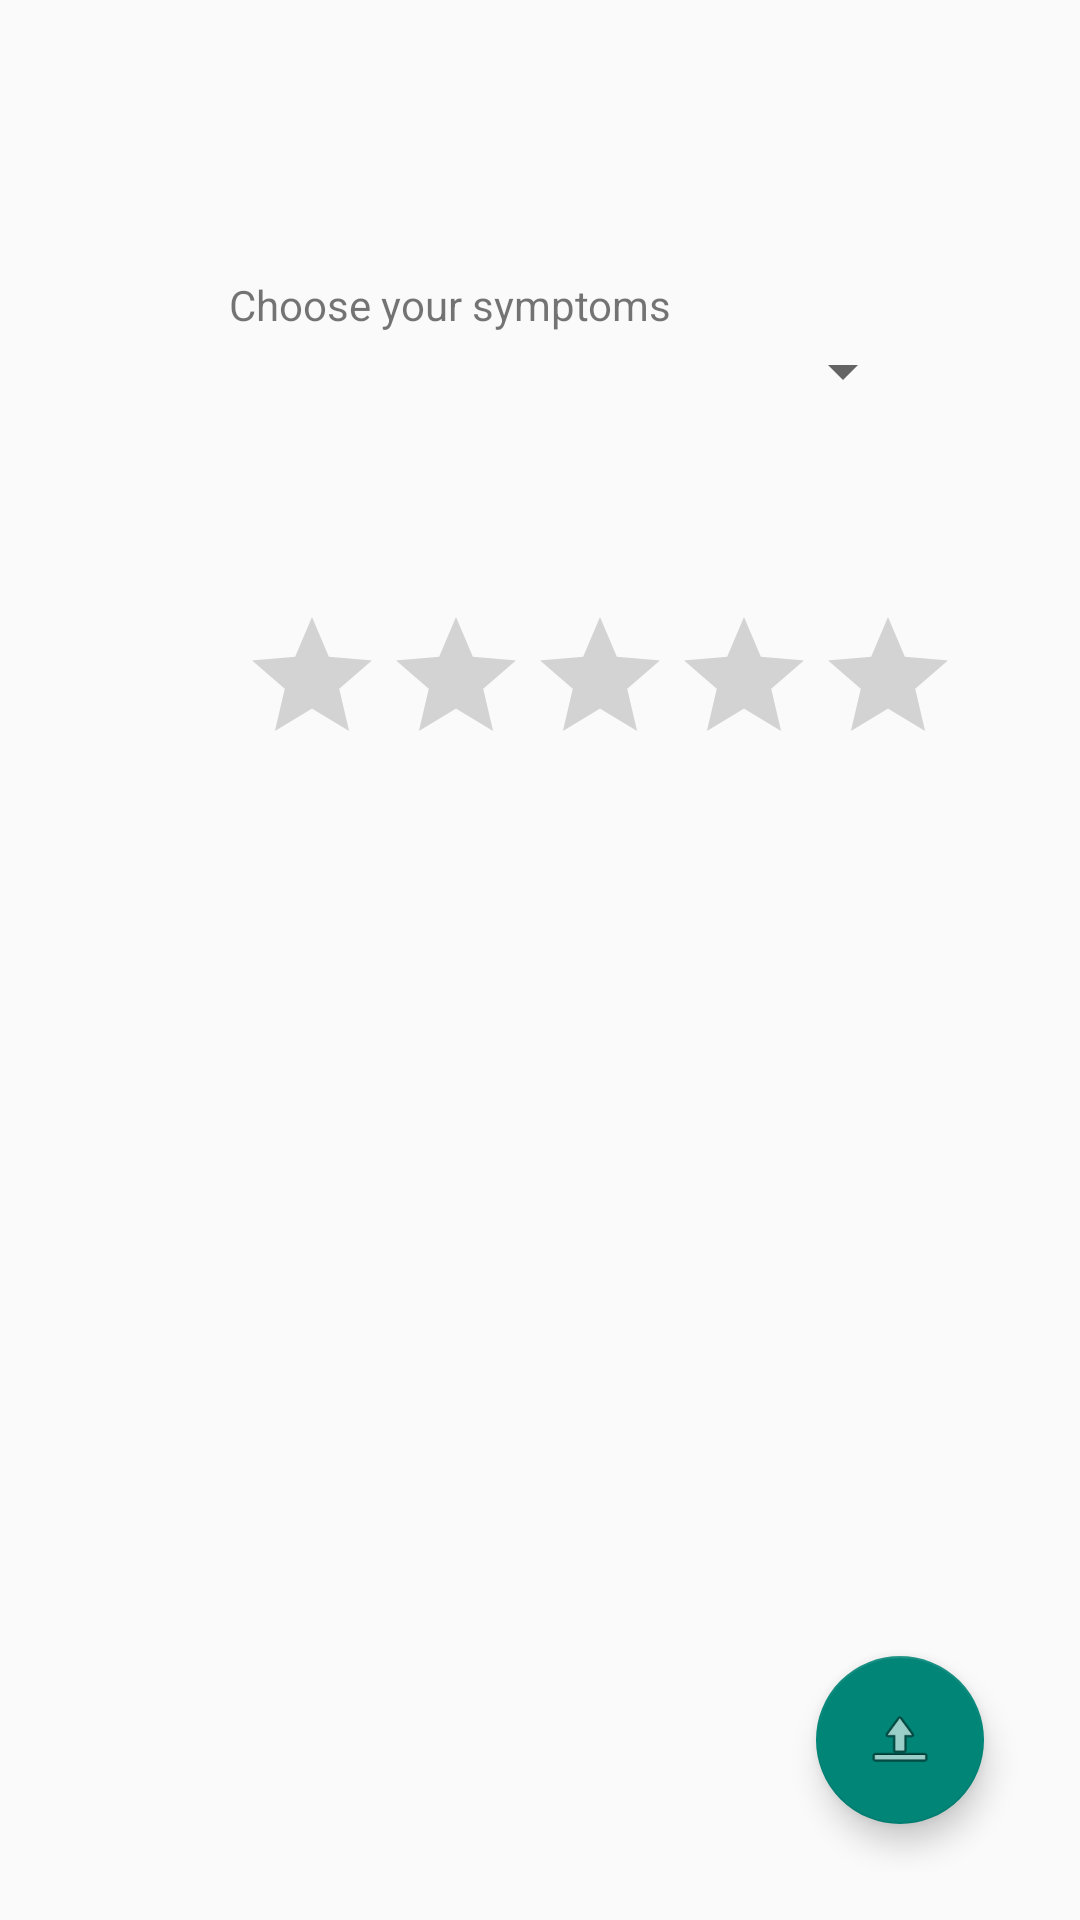

Screen size 1080w x 1920h. Icon name, then its box in pixels as bbox=(x1, y1, x2, y2):
Upload: bbox=(816, 1656, 984, 1824)
